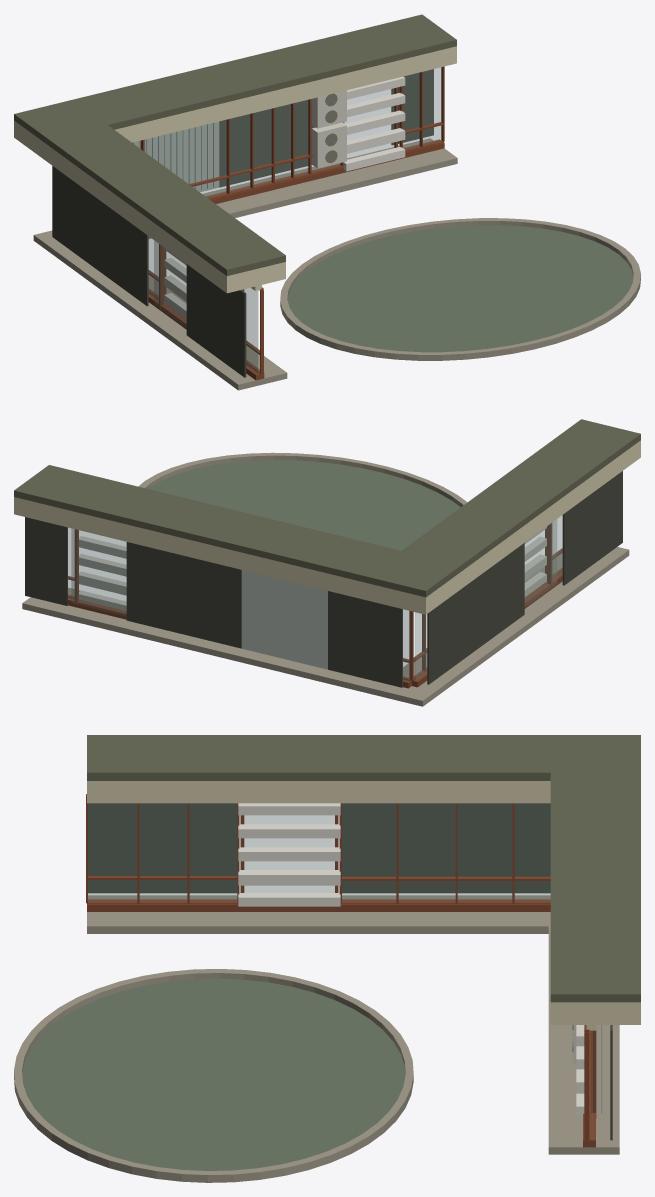
Rendered from lod-source.glb.
3 renders of one model, top to bottom at view 1: azimuth 30°, elevation 25°; view 2: azimuth 150°, elevation 25°; view 3: azimuth 270°, elevation 25°, orthographic. The views are drawn at different scales.
Parts seen in each view (by area): view 1: 淮阴路姚氏住宅水庭转角长窗与水平格栅; view 2: 淮阴路姚氏住宅水庭转角长窗与水平格栅; view 3: 淮阴路姚氏住宅水庭转角长窗与水平格栅.
Part boxes in pixels (bbox=[...]): 淮阴路姚氏住宅水庭转角长窗与水平格栅: bbox=[14, 14, 640, 390]; 淮阴路姚氏住宅水庭转角长窗与水平格栅: bbox=[14, 419, 640, 706]; 淮阴路姚氏住宅水庭转角长窗与水平格栅: bbox=[14, 735, 640, 1182].
Size of the model in its own units: 12.46 by 3.4 by 11.69.
